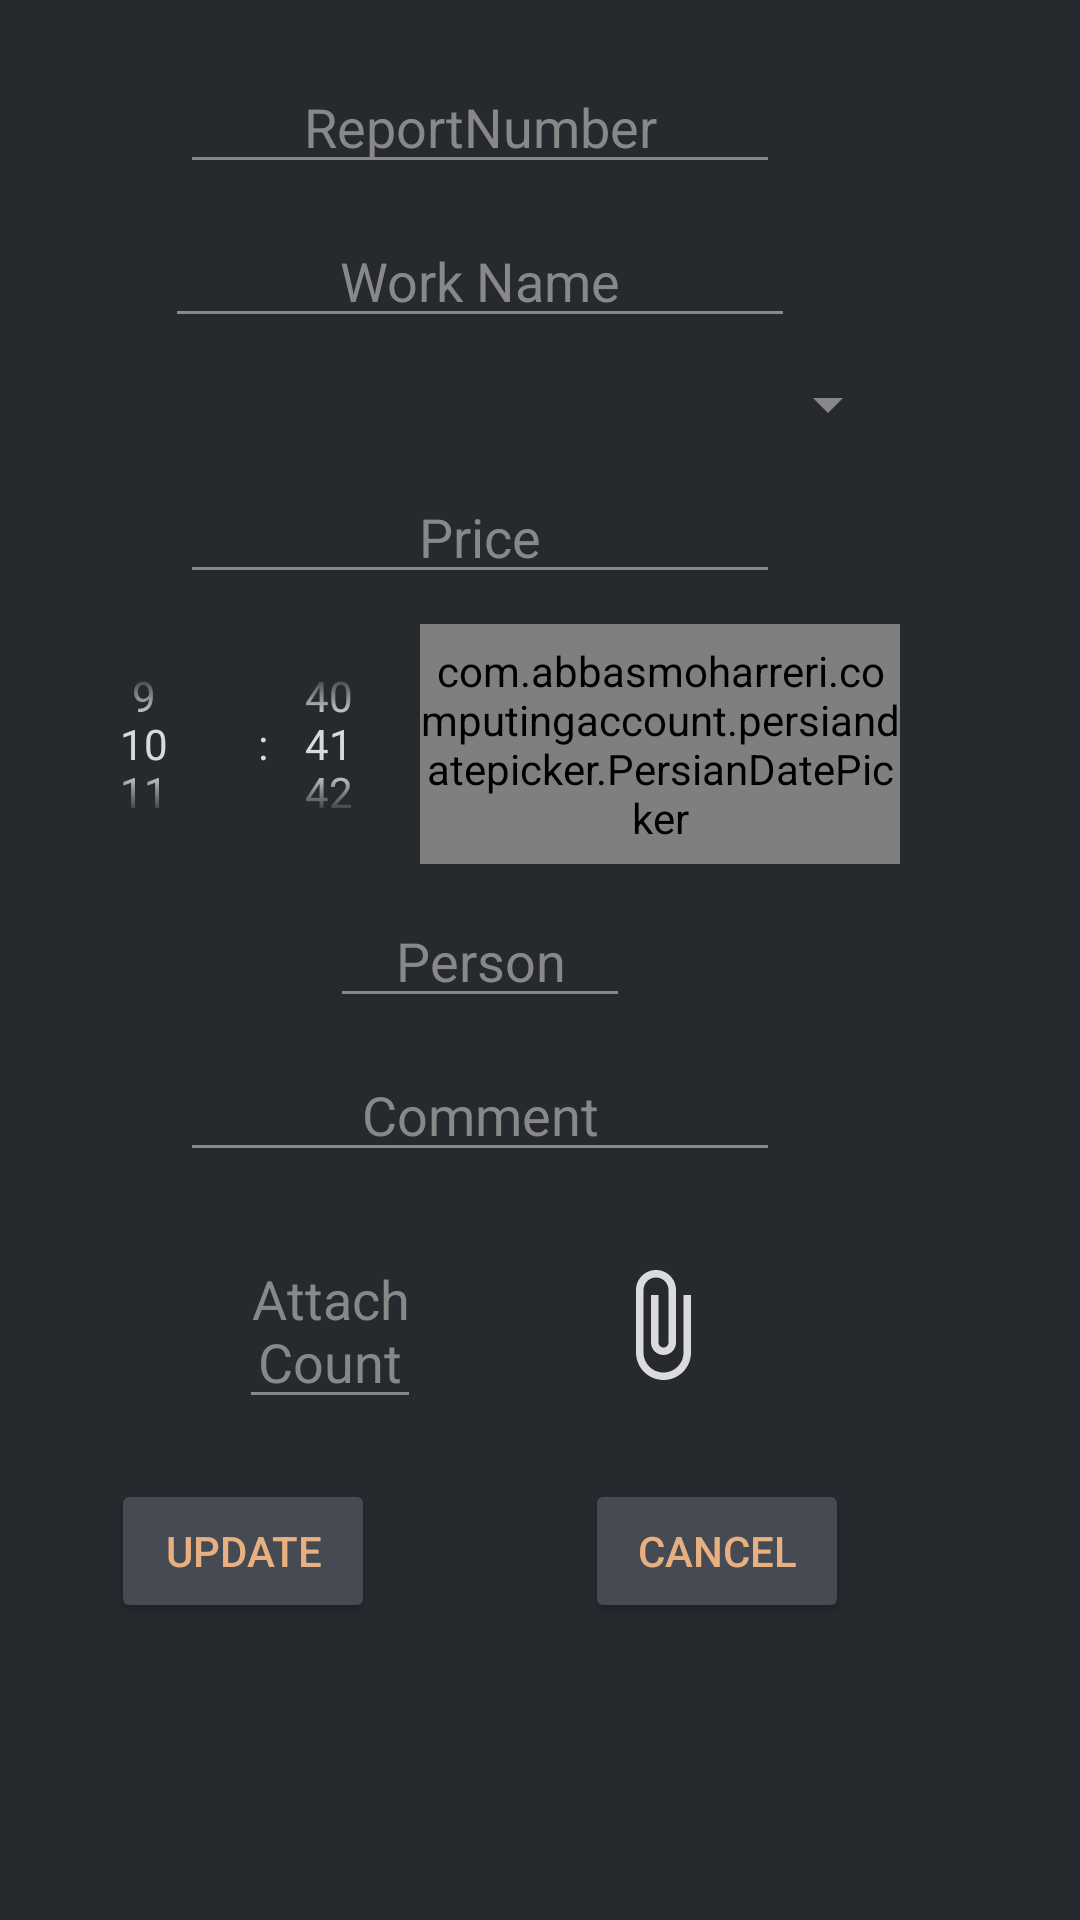

Icon bounding boxes for this 1080w x 1920h phone screenshot, format detection(x1, y1, x2, y2):
attach file: detection(636, 1270, 691, 1380)
